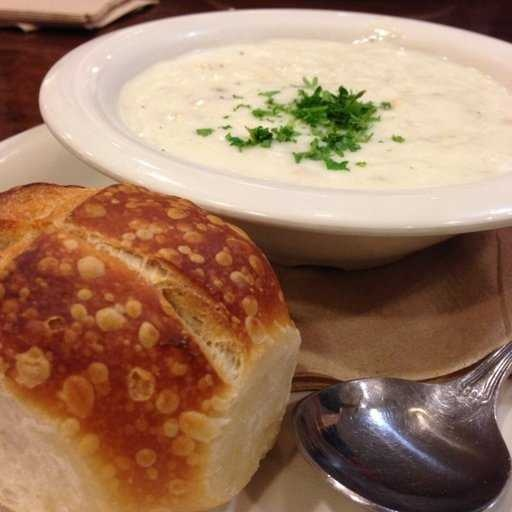soup: (98, 42, 512, 204)
